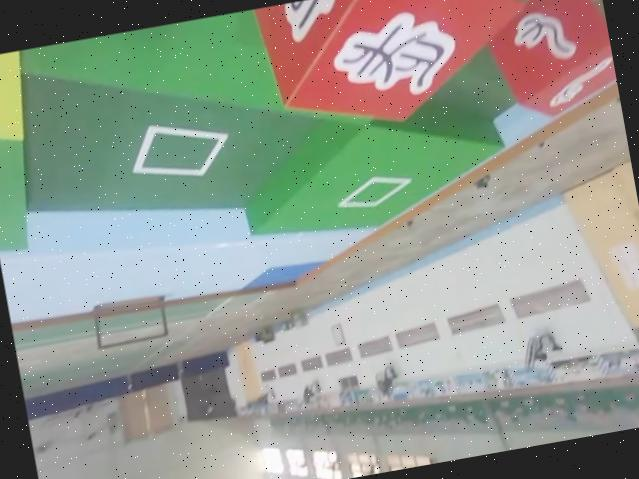R2 Fake: (251, 0, 541, 149)
R2 Real: (472, 0, 620, 128)
